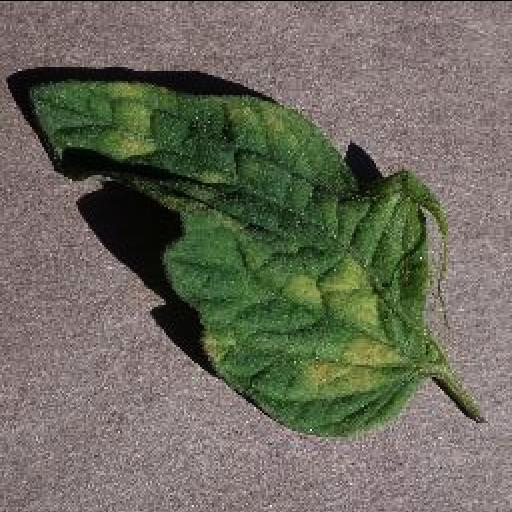disease_tomato: (26, 80, 424, 432)
